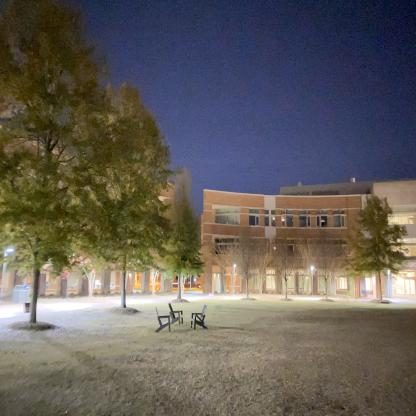eb2: (191, 174, 416, 311)
